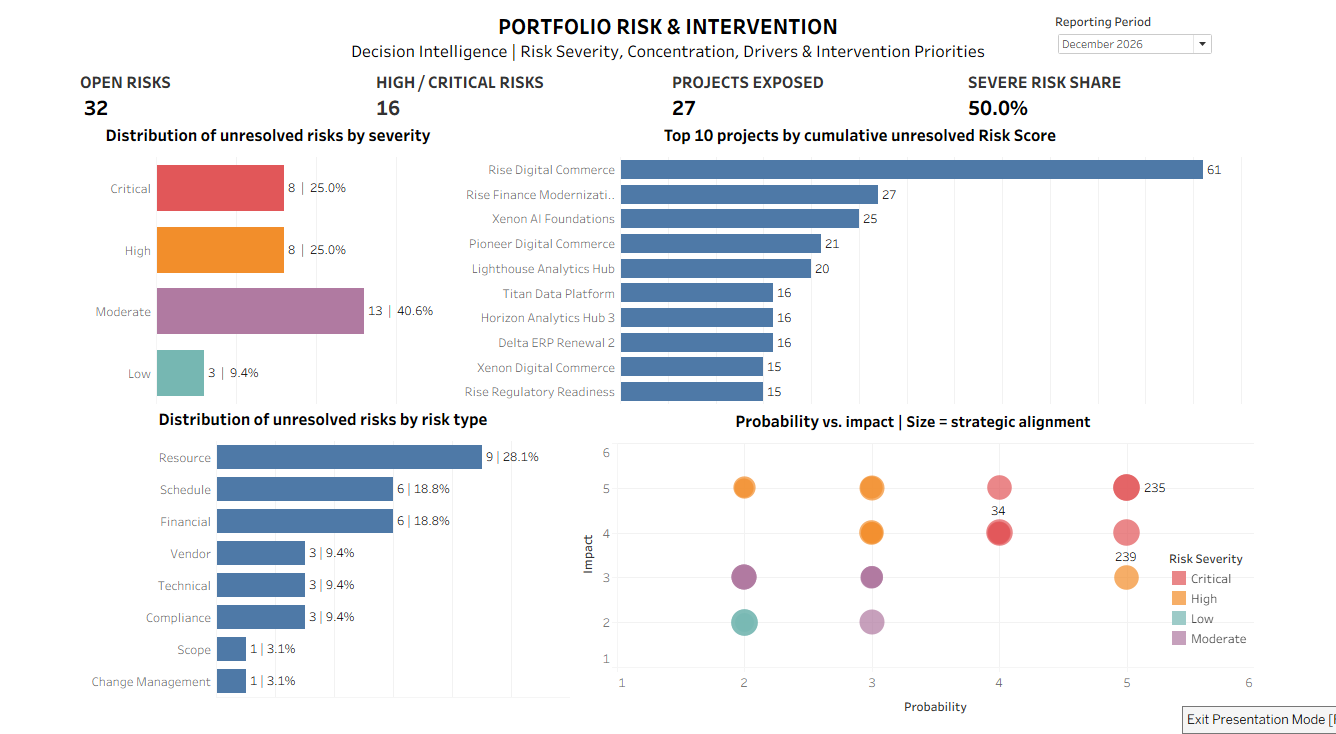

The page's visual inventory and layout, read from the dashboard file:
{"tool":"tableau","page":{"name":"Dashboard 2 - Portfolio Risk & Intervention","canvas":[1200,800],"ordinal":1},"visuals":[{"type":"text","box":[8,8,1184,65]},{"type":"filter","title":"VIZ 05 - Open Risk Severity Profile","param":"[federated.18w3vxu1ef3x761h952lc0s4ypt8].[my:period_start_date:ok]","box":[987,14,160,44]},{"type":"worksheet","title":"KPI 06 - Open Risks","mark":"Automatic","box":[8,73,296,62]},{"type":"worksheet","title":"KPI 07 - High Critical Risks","mark":"Automatic","box":[304,73,296,62]},{"type":"worksheet","title":"KPI 08 - Projects Exposed","mark":"Automatic","box":[600,73,296,62]},{"type":"worksheet","title":"KPI 09 — Severe Risk Share","mark":"Automatic","box":[896,73,296,62]},{"type":"worksheet","title":"VIZ 05 - Open Risk Severity Profile","mark":"Automatic","rows":["risk_severity"],"cols":["risk_id"],"box":[8,135.2,384,305.8]},{"type":"worksheet","title":"VIZ 06 - Projects with Highest Open Risk Burden","mark":"Automatic","rows":["project_name"],"cols":["Calculation_0605044342382600"],"box":[392,135.2,800,305.8]},{"type":"worksheet","title":"VIZ 07 - Open Risks by Category","mark":"Automatic","rows":["risk_category"],"cols":["risk_id"],"box":[8,441,454,351]},{"type":"worksheet","title":"VIZ 08 - Priority Risk Intervention Matrix","mark":"Circle","rows":["impact_score"],"cols":["probability_score"],"box":[462,441,694,351]},{"type":"legend","title":"VIZ 08 - Priority Risk Intervention Matrix","param":"[federated.18w3vxu1ef3x761h952lc0s4ypt8].[none:risk_severity:nk]","box":[1070,515,97,98]}]}

Visuals, with their boxes on the page's 1200x800 design canvas (x1, y1, x2, y2). These are canvas units, not pixel positions in the 1336x734 screenshot, which may show the page scaled, cropped or inside an application window:
text: (x1=8, y1=8, x2=1192, y2=73)
"VIZ 05 - Open Risk Severity Profile" filter: (x1=987, y1=14, x2=1147, y2=58)
"KPI 06 - Open Risks" worksheet: (x1=8, y1=73, x2=304, y2=135)
"KPI 07 - High Critical Risks" worksheet: (x1=304, y1=73, x2=600, y2=135)
"KPI 08 - Projects Exposed" worksheet: (x1=600, y1=73, x2=896, y2=135)
"KPI 09 — Severe Risk Share" worksheet: (x1=896, y1=73, x2=1192, y2=135)
"VIZ 05 - Open Risk Severity Profile" worksheet: (x1=8, y1=135, x2=392, y2=441)
"VIZ 06 - Projects with Highest Open Risk Burden" worksheet: (x1=392, y1=135, x2=1192, y2=441)
"VIZ 07 - Open Risks by Category" worksheet: (x1=8, y1=441, x2=462, y2=792)
"VIZ 08 - Priority Risk Intervention Matrix" worksheet (Circle marks): (x1=462, y1=441, x2=1156, y2=792)
"VIZ 08 - Priority Risk Intervention Matrix" legend: (x1=1070, y1=515, x2=1167, y2=613)
